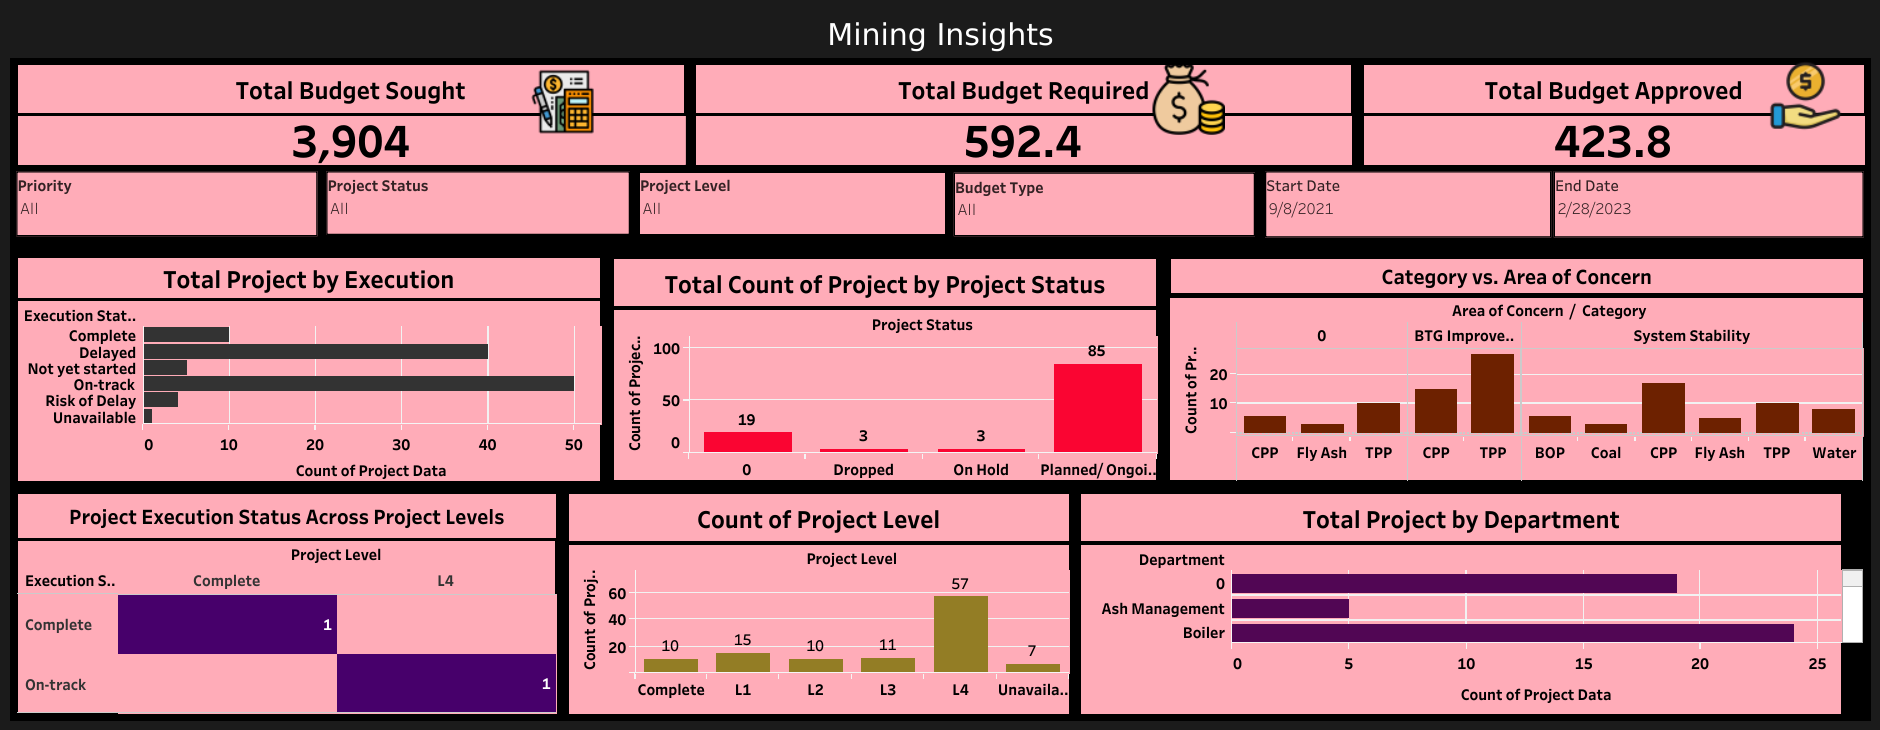

This screenshot's page, from the dashboard's own definition file:
{"tool":"tableau","page":{"name":"Dashboard 1","canvas":[1000,1000],"units":"permille","ordinal":0},"visuals":[{"type":"title","box":[4.9,10,990.2,47.7]},{"type":"worksheet","title":"Total Budget Sought","mark":"Automatic","box":[5.5,59,333.5,156.8]},{"type":"worksheet","title":"Total Budget Required","mark":"Automatic","box":[339.1,59,328,156.8]},{"type":"worksheet","title":"Total Budget Approved","mark":"Automatic","box":[667.1,59,327.4,156.8]},{"type":"image","param":"Image/8975536.png","box":[931.8,79,57.1,104.1]},{"type":"image","param":"Image/4626364.png","box":[602,85.3,60.2,99.1]},{"type":"image","param":"Image/1965656.png","box":[272.1,92.9,54.7,91.6]},{"type":"blank","box":[0,189.5,998.8,3.8]},{"type":"worksheet","title":"l","mark":"Automatic","box":[5.5,215.8,989,114.2]},{"type":"parameter","param":"[Parameters].[Parameter 1]","box":[8.6,233.4,160.3,90.3]},{"type":"parameter","param":"[Parameters].[Parameter 3]","box":[173.2,233.4,161.6,87.8]},{"type":"parameter","param":"[Parameters].[Parameter 5]","box":[672.6,233.4,151.7,91.6]},{"type":"parameter","param":"[Parameters].[Parameter 6]","box":[826.2,233.4,164.6,91.6]},{"type":"parameter","param":"[Parameters].[Parameter 2]","box":[339.7,234.6,163.4,86.6]},{"type":"parameter","param":"[Parameters].[Parameter 4]","box":[506.8,235.9,160.3,87.8]},{"type":"worksheet","title":"Total Project by Execution","mark":"Automatic","rows":["Execution Status"],"cols":["Project Data_41D743B67304429F960009A48AB26037"],"box":[5.5,330,316.6,331.7]},{"type":"worksheet","title":"Count of Project Status","mark":"Automatic","rows":["Project Data_41D743B67304429F960009A48AB26037"],"cols":["Project Status"],"box":[322.2,330,296.3,331.7]},{"type":"worksheet","title":"Clustered Bar-Graph for Category and Area of Concern","mark":"Automatic","rows":["Project Data_41D743B67304429F960009A48AB26037"],"cols":["Area of Concern","Category"],"box":[618.4,330,376.1,331.7]},{"type":"worksheet","title":"Project Execution Status Across Project Levels","mark":"Square","rows":["Execution Status"],"cols":["Project Level"],"box":[5.5,661.6,293.1,327.1]},{"type":"worksheet","title":"Count of Project Level","mark":"Automatic","rows":["Project Data_41D743B67304429F960009A48AB26037"],"cols":["Project Level"],"box":[298.6,661.6,272.8,327.1]},{"type":"worksheet","title":"Total Project by Department","mark":"Automatic","rows":["Department"],"cols":["Project Data_41D743B67304429F960009A48AB26037"],"box":[571.4,661.6,423.1,327.1]}]}

Visuals, with their boxes on the dashboard's canvas, which has no fixed pixel size, in thousandths of its width and height (x1, y1, x2, y2). These are canvas units, not pixel positions in the 1880x730 screenshot, which may show the page scaled, cropped or inside an application window:
title: 5/10/995/58
"Total Budget Sought" worksheet: 6/59/339/216
"Total Budget Required" worksheet: 339/59/667/216
"Total Budget Approved" worksheet: 667/59/994/216
image: 932/79/989/183
image: 602/85/662/184
image: 272/93/327/184
blank: 0/190/999/193
"l" worksheet: 6/216/994/330
parameter: 9/233/169/324
parameter: 173/233/335/321
parameter: 673/233/824/325
parameter: 826/233/991/325
parameter: 340/235/503/321
parameter: 507/236/667/324
"Total Project by Execution" worksheet: 6/330/322/662
"Count of Project Status" worksheet: 322/330/618/662
"Clustered Bar-Graph for Category and Area of Concern" worksheet: 618/330/994/662
"Project Execution Status Across Project Levels" worksheet (Square marks): 6/662/299/989
"Count of Project Level" worksheet: 299/662/571/989
"Total Project by Department" worksheet: 571/662/994/989
